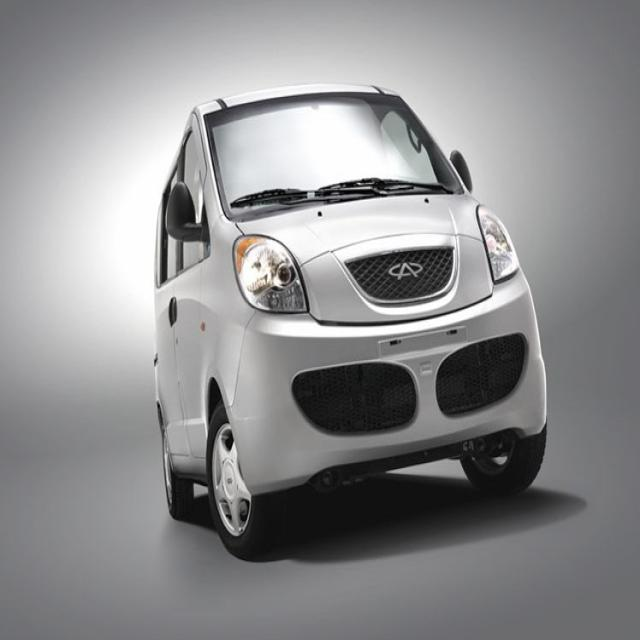front_bumper: (222, 274, 548, 496)
front_glass: (204, 89, 467, 218)
front_left_side_light: (476, 200, 520, 284)
front_left_side_mirror: (451, 145, 472, 193)
front_right_side_door: (171, 105, 223, 474)
front_right_side_light: (232, 233, 310, 315)
front_right_side_mirror: (164, 181, 212, 246)
wheel: (204, 401, 276, 560), (460, 426, 546, 494)
